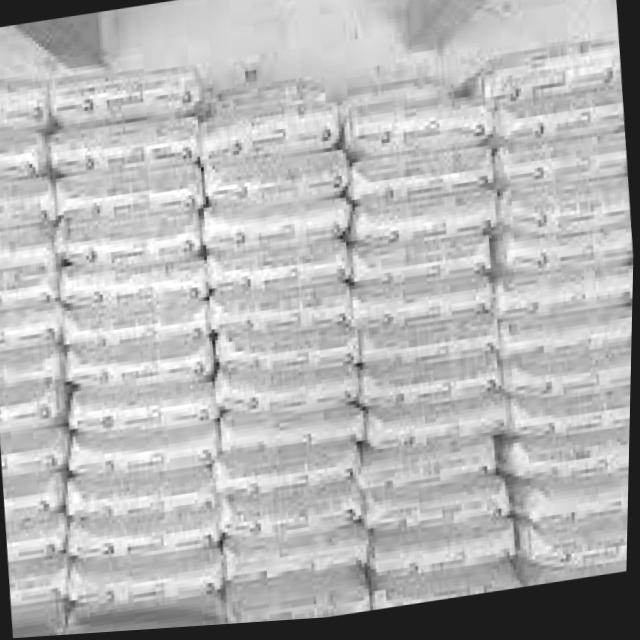cement_bag: (215, 100, 341, 172), (371, 441, 494, 514), (372, 402, 510, 466), (484, 51, 617, 117), (364, 193, 492, 261), (80, 553, 218, 616), (376, 487, 512, 550), (230, 441, 358, 507), (381, 529, 512, 592), (364, 317, 498, 377), (213, 160, 345, 218), (67, 163, 196, 222), (507, 139, 628, 201), (511, 324, 634, 384), (220, 326, 355, 380), (79, 440, 211, 495), (63, 215, 194, 270), (239, 534, 365, 591), (360, 156, 490, 211), (216, 248, 346, 303), (508, 277, 635, 333), (361, 244, 489, 299), (78, 350, 209, 403), (226, 381, 366, 430), (515, 395, 633, 453), (516, 189, 631, 248), (71, 305, 206, 355), (61, 74, 191, 125), (82, 396, 214, 444), (58, 126, 195, 172), (81, 520, 215, 565), (538, 480, 631, 544), (235, 586, 369, 627), (523, 442, 632, 491), (64, 269, 197, 309), (356, 110, 489, 150), (393, 583, 520, 612), (11, 568, 62, 624), (2, 436, 67, 479), (0, 180, 46, 237), (0, 389, 54, 434), (0, 342, 56, 385), (0, 270, 55, 313), (8, 522, 61, 565), (0, 231, 50, 273), (5, 480, 45, 522), (0, 86, 44, 123), (0, 133, 37, 176)
